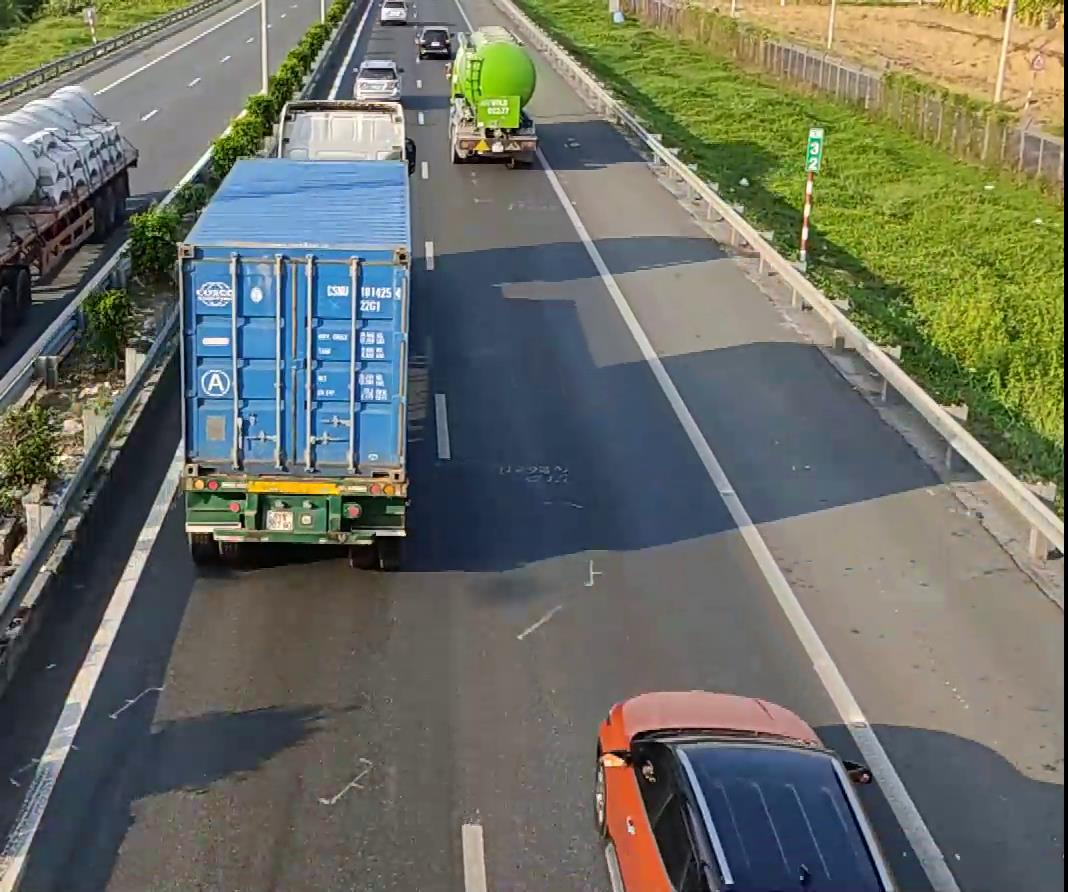car: (591, 693, 897, 888)
container: (174, 93, 421, 564), (0, 86, 137, 401), (446, 26, 537, 164)
